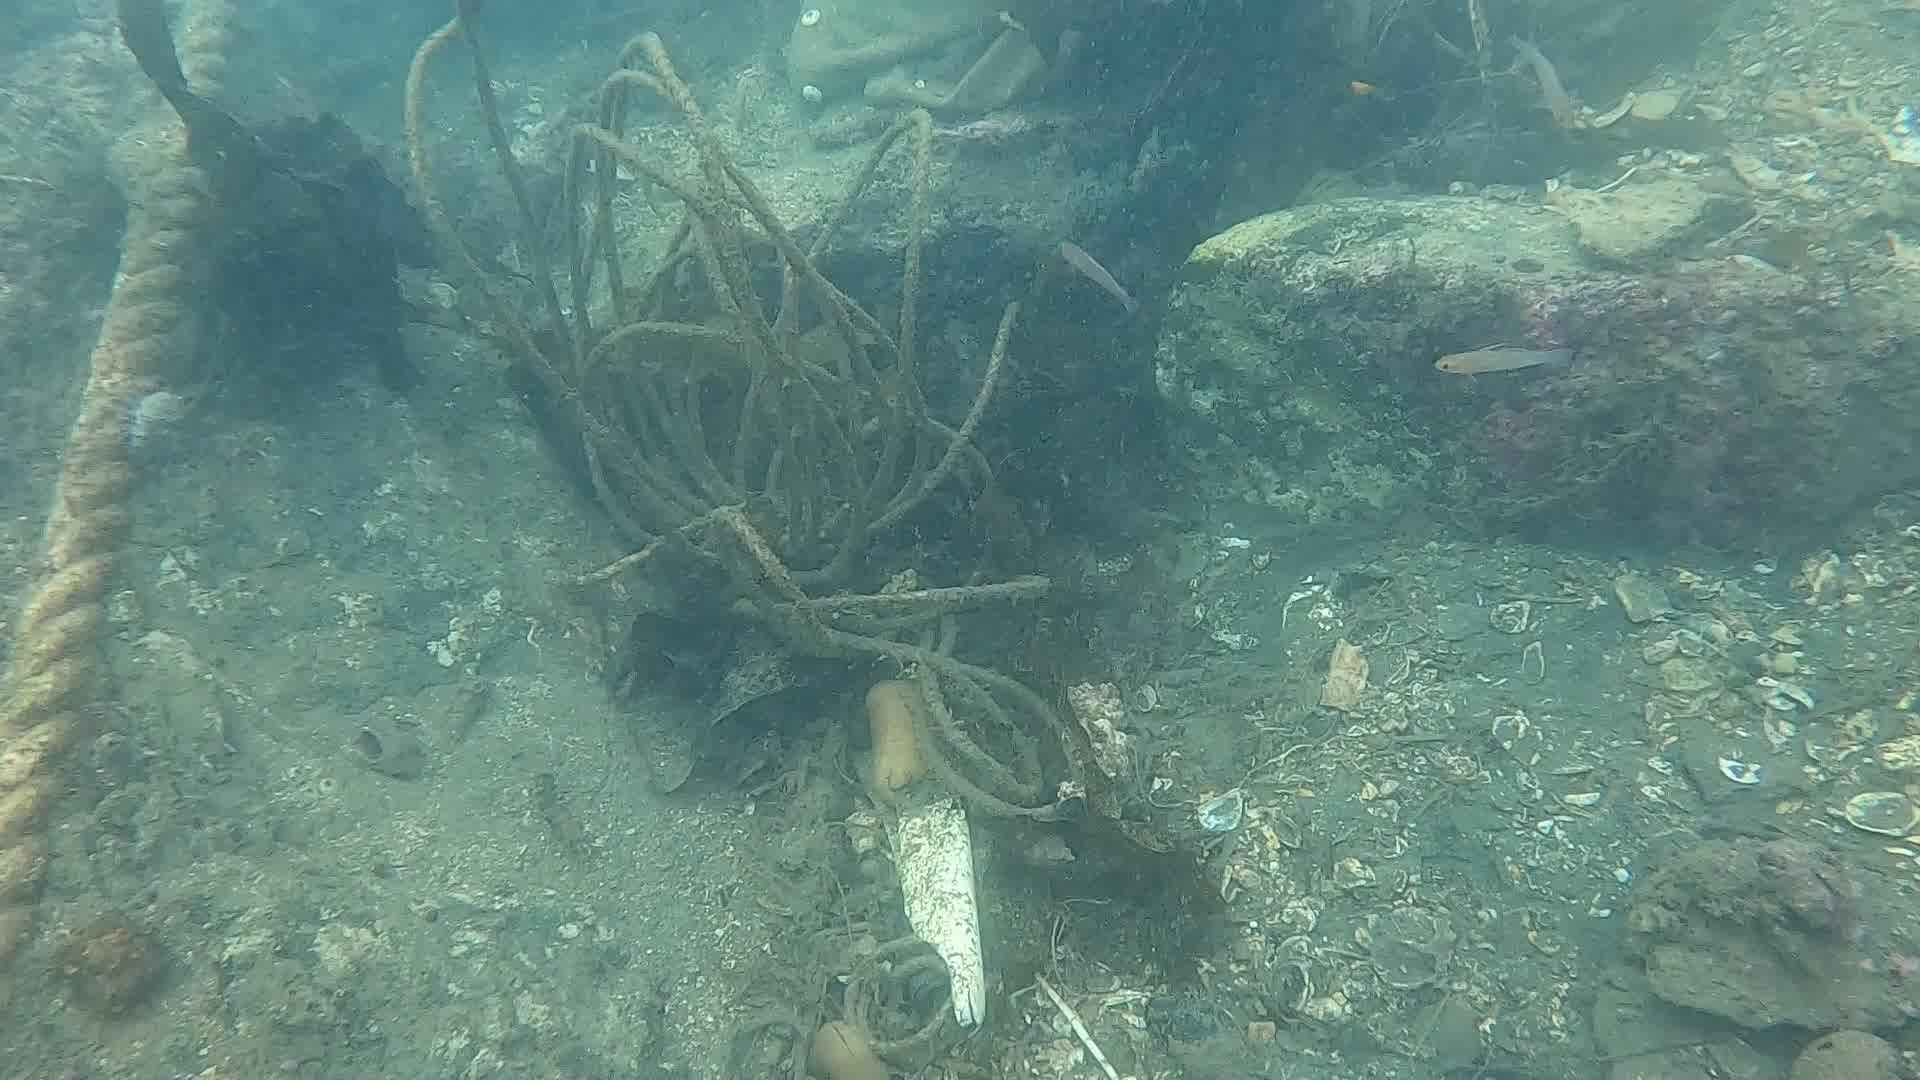bundle of ropes: (389, 0, 1100, 839)
rope: (0, 0, 258, 957)
